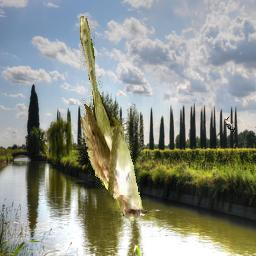Cuckoo: (80, 17, 150, 222)
Woodpecker: (224, 117, 236, 134)
